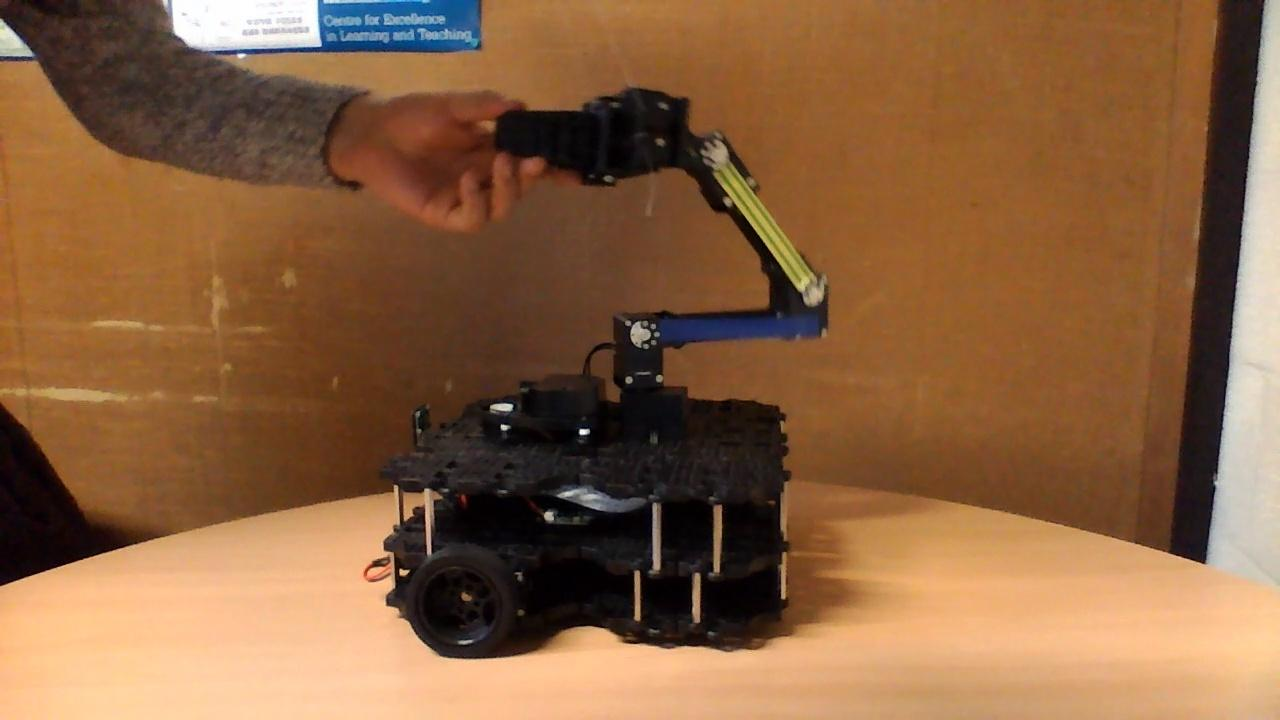Arm: (617, 308, 835, 358)
Hand: (490, 84, 697, 193)
Wrist: (698, 130, 828, 310)
base: (358, 366, 798, 662)
